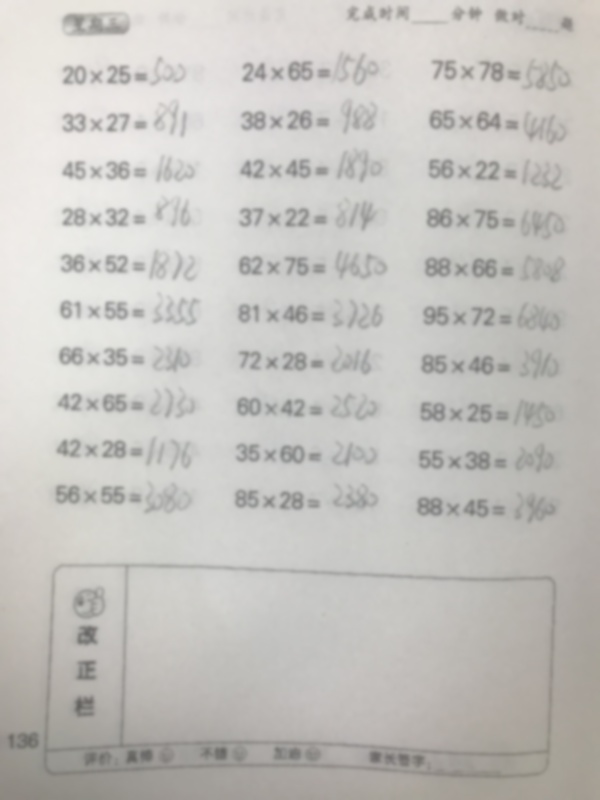equation: (423, 49, 578, 100), (421, 149, 570, 195), (423, 200, 572, 246), (419, 246, 568, 292), (420, 293, 569, 339), (418, 339, 567, 385), (418, 390, 567, 436), (415, 434, 564, 480), (415, 480, 564, 526), (237, 93, 391, 137), (50, 475, 197, 518), (239, 47, 394, 87), (236, 142, 386, 183), (235, 195, 380, 237), (59, 151, 209, 191), (56, 193, 206, 233), (57, 242, 207, 282), (55, 290, 205, 330), (59, 93, 190, 138), (236, 247, 391, 283), (233, 294, 388, 330), (235, 339, 384, 376), (55, 384, 199, 422), (53, 434, 197, 472), (426, 104, 573, 141), (231, 478, 381, 513), (234, 390, 384, 424), (232, 436, 380, 468), (55, 340, 194, 373), (60, 54, 190, 89)
